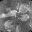people: (18, 3, 30, 14), (7, 8, 17, 18), (4, 20, 14, 29), (19, 14, 30, 22), (1, 13, 8, 18)
